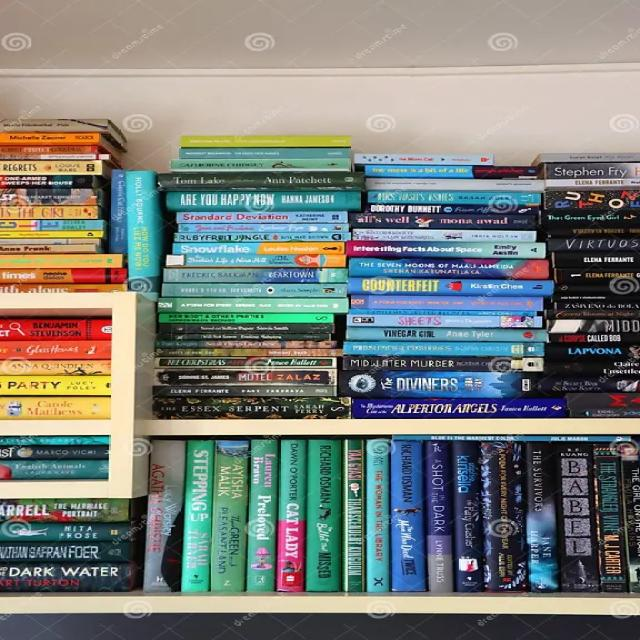book: (479, 440, 526, 592), (142, 442, 184, 592), (551, 441, 592, 593), (591, 441, 630, 592), (340, 369, 539, 398), (211, 437, 248, 592), (244, 438, 280, 593), (522, 443, 558, 595), (390, 439, 425, 593), (306, 439, 340, 594), (180, 440, 214, 592), (450, 440, 482, 592), (275, 438, 306, 594), (126, 172, 166, 290), (247, 440, 277, 593), (348, 398, 564, 419), (364, 438, 392, 595), (424, 439, 452, 592), (153, 396, 347, 418), (2, 561, 133, 592), (162, 170, 365, 190), (348, 258, 546, 278), (166, 192, 362, 212), (167, 191, 361, 211), (2, 118, 126, 149), (342, 439, 366, 593), (343, 242, 541, 260), (346, 295, 546, 312), (1, 498, 131, 523), (154, 298, 342, 314), (350, 214, 538, 230), (340, 341, 540, 356), (2, 521, 132, 544), (343, 327, 542, 342), (346, 313, 544, 328), (620, 446, 640, 594), (162, 283, 346, 299), (343, 357, 539, 372), (167, 269, 346, 285), (0, 542, 131, 563), (156, 370, 336, 385), (348, 229, 540, 243), (360, 190, 539, 205), (158, 312, 346, 326), (0, 396, 112, 419), (159, 322, 340, 336), (352, 164, 532, 178), (364, 178, 543, 192), (172, 242, 350, 256), (170, 253, 347, 267), (180, 134, 356, 148), (150, 384, 338, 397), (1, 318, 112, 340), (356, 204, 538, 217), (542, 162, 639, 186), (177, 147, 355, 160), (176, 211, 354, 224), (177, 222, 354, 235), (0, 375, 113, 395), (0, 460, 113, 480), (168, 159, 354, 171), (533, 374, 636, 395), (171, 232, 348, 244), (108, 170, 130, 262), (156, 339, 338, 350), (541, 215, 640, 235), (0, 268, 123, 284), (156, 357, 332, 368), (1, 342, 114, 359), (0, 359, 111, 376), (1, 254, 124, 269), (548, 249, 640, 269), (156, 348, 340, 358), (0, 445, 110, 461), (352, 153, 498, 165), (543, 343, 640, 361), (545, 236, 640, 254), (0, 174, 104, 189), (2, 161, 111, 175), (545, 318, 640, 334), (551, 268, 640, 285), (547, 280, 638, 296), (1, 206, 102, 220), (0, 219, 106, 232), (0, 144, 113, 156), (547, 299, 640, 313), (0, 243, 110, 254), (0, 436, 109, 447), (545, 309, 639, 320), (538, 152, 638, 162)
